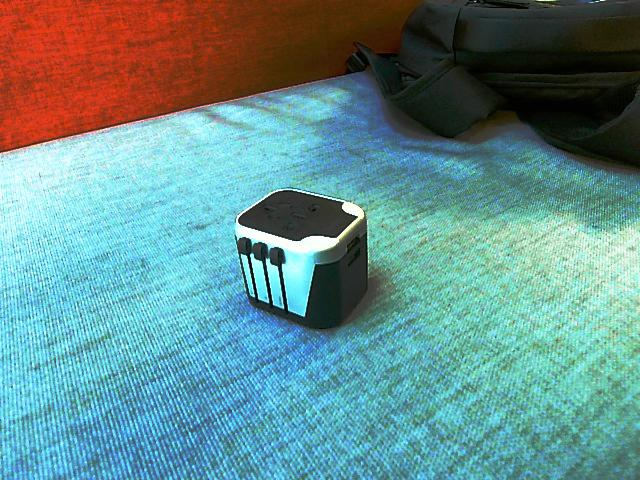adapter: (233, 187, 369, 329)
